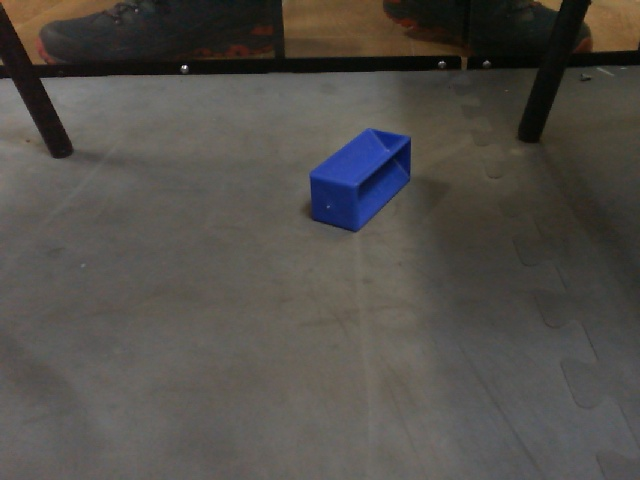BlueSample: (307, 127, 416, 235)
